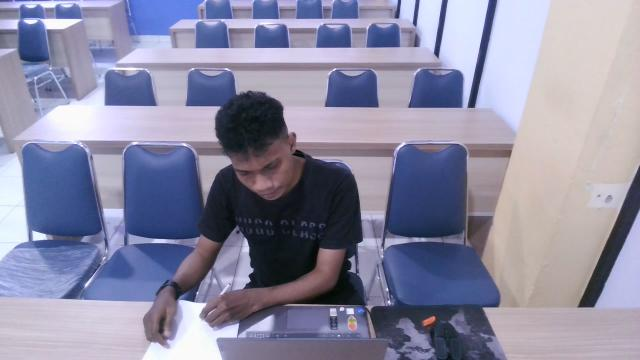Normal_Writing: (165, 84, 397, 360)
